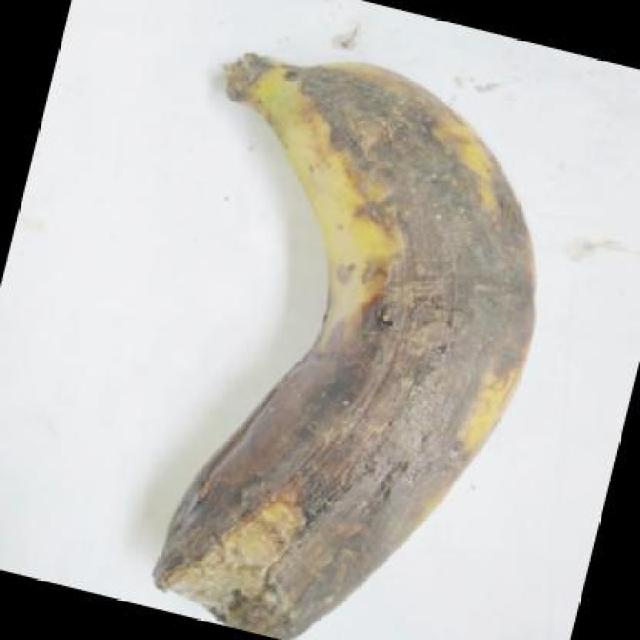Rotten: (125, 24, 559, 640)
